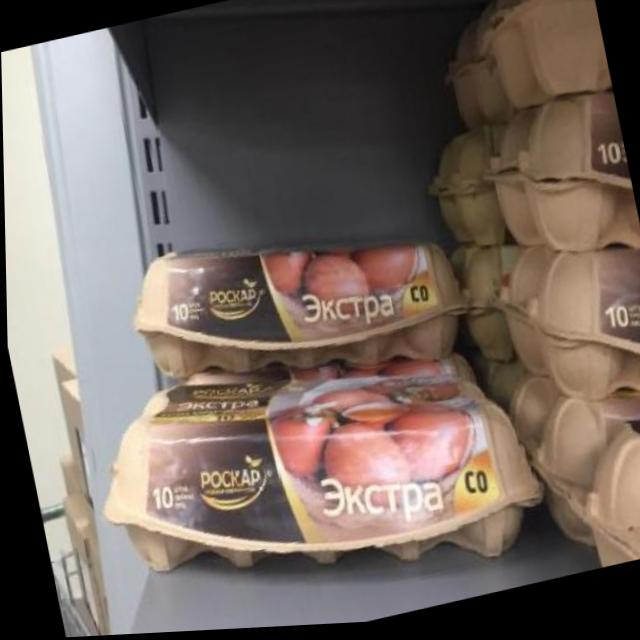Egg: (71, 299, 557, 637), (107, 185, 484, 435), (504, 76, 640, 285), (529, 238, 640, 428), (553, 405, 640, 578), (505, 0, 612, 115)
